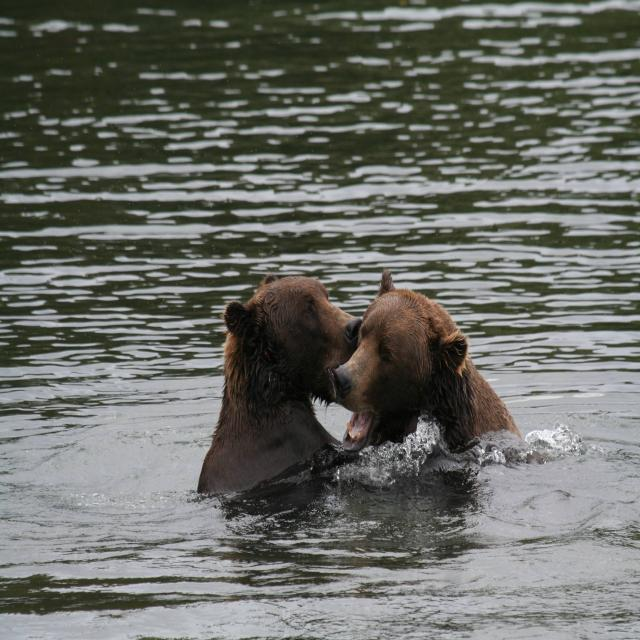bear face: (202, 277, 361, 488), (333, 267, 511, 448)
